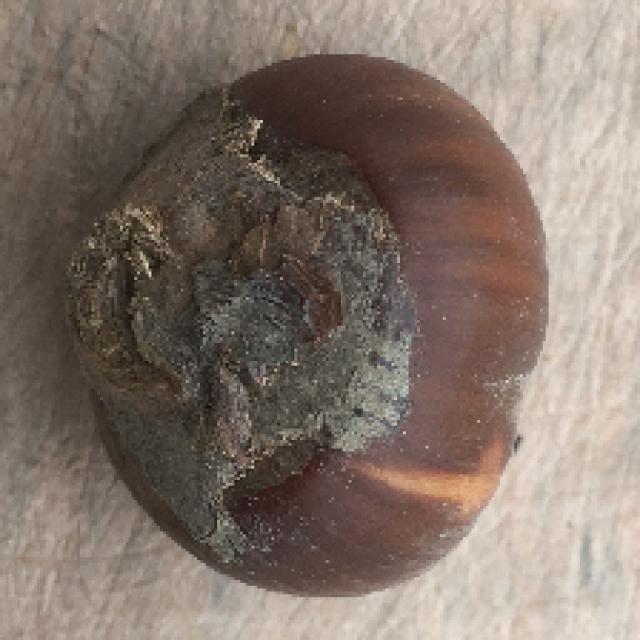damagedHazelnut: (64, 48, 558, 598)
